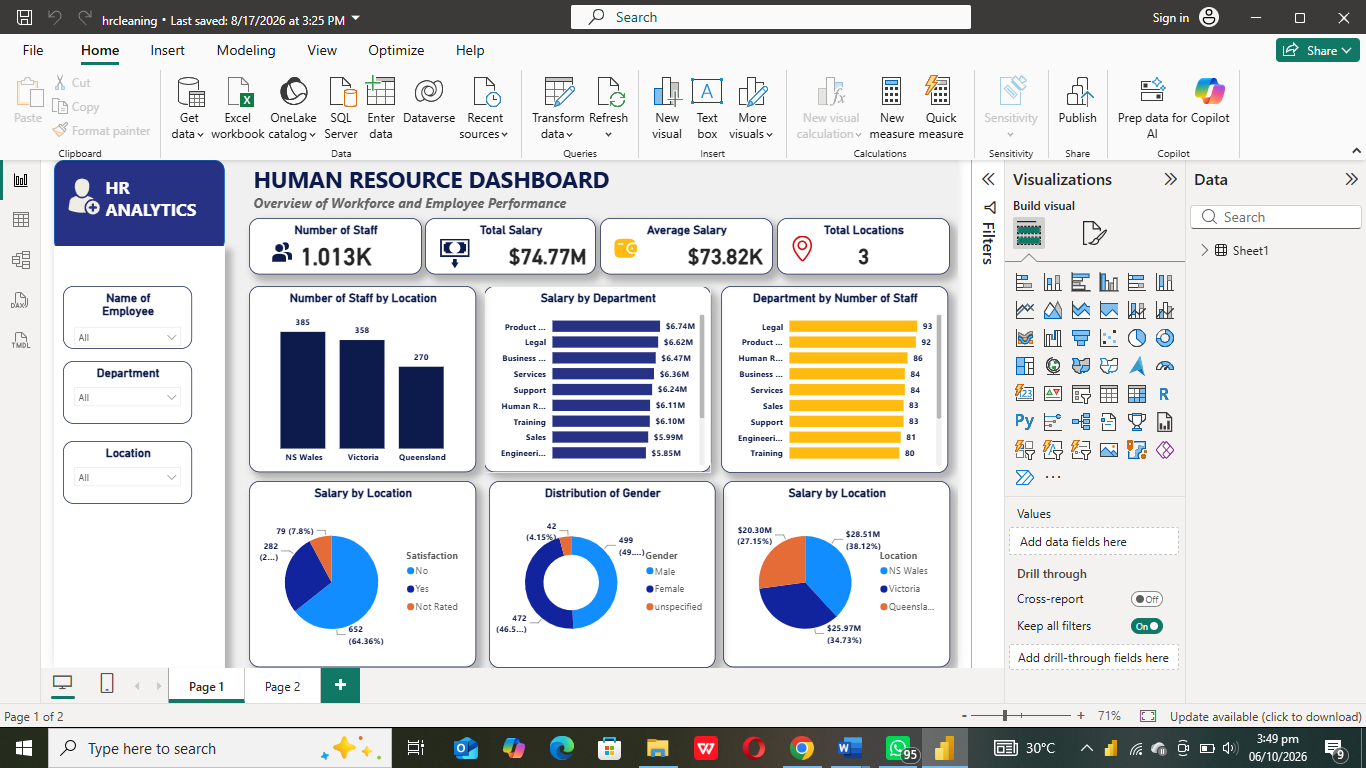

What the dashboard file says about the page in this screenshot:
{"tool":"powerbi","page":{"name":"Page 1","canvas":[1280,720],"ordinal":0},"visuals":[{"type":"cardVisual","title":"Number of Staff","fields":{"Data":["CountNonNull(Sheet1.Name)"]},"box":[276.5,82.3,244.7,80.4],"z":0,"group":"g1"},{"type":"clusteredBarChart","title":"Department by Number of Staff","fields":{"Category":["Sheet1.Department"],"Y":["CountNonNull(Sheet1.Name)"]},"box":[945.7,178.6,322,264.7],"z":0},{"type":"cardVisual","title":"Total Salary","fields":{"Data":["Sum(Sheet1.Salary)"]},"box":[526.3,82.3,242.5,80.4],"z":1000,"group":"g3"},{"type":"clusteredBarChart","title":"Salary by Department","fields":{"Category":["Sheet1.Department"],"Y":["Sum(Sheet1.Salary)"]},"box":[609.7,178.6,322,264.4],"z":1000},{"type":"shape","box":[0,0,241.9,129.6],"z":2000},{"type":"cardVisual","title":"Total Locations","fields":{"Data":["Count(Sheet1.Location)"]},"box":[1024.1,82.1,244.7,80.4],"z":2000,"group":"g7"},{"type":"cardVisual","title":"Average Salary","fields":{"Data":["Avg(Sheet1.Salary)"]},"box":[772.6,82.3,244.7,80.4],"z":2000,"group":"g5"},{"type":"slicer","title":"Name of Employee","fields":{"Values":["Sheet1.Name"]},"box":[12.8,178.6,183,89],"z":3000,"group":"g6"},{"type":"columnChart","title":"Number of Staff by Location","fields":{"Category":["Sheet1.Location"],"Y":["CountNonNull(Sheet1.Name)"]},"box":[277.1,178.6,322,264.4],"z":3000},{"type":"shape","box":[0,122.4,241.9,597.6],"z":4000},{"type":"slicer","title":"Department","fields":{"Values":["Sheet1.Department"]},"box":[12.8,284.3,183,89],"z":5000,"group":"g6"},{"type":"pieChart","title":"Salary by Location","fields":{"Category":["Sheet1.Location"],"Y":["Sum(Sheet1.Salary)"]},"box":[947.9,455.2,322,264.4],"z":5000},{"type":"pieChart","title":"Salary by Location","fields":{"Category":["Sheet1.Satisfaction"],"Y":["CountNonNull(Sheet1.Name)"]},"box":[276.4,454.8,322,264.4],"z":6000},{"type":"slicer","title":"Location","fields":{"Values":["Sheet1.Location"]},"box":[12.8,398.5,183,89],"z":7000,"group":"g6"},{"type":"donutChart","title":"Distribution of Gender","fields":{"Category":["Sheet1.Gender"],"Y":["CountNonNull(Sheet1.Name)"]},"box":[616.8,455.2,321,264.8],"z":7000},{"type":"textbox","box":[277.2,0,979.3,82.3],"z":8000},{"type":"textbox","box":[67.6,17.3,185.6,105],"z":9000},{"type":"group","id":"g1","title":"Group 2","box":[276.5,82.3,244.7,80.4],"z":9000,"group":"g4"},{"type":"group","id":"g2","title":"Group 8","box":[13,21.6,60.5,60.5],"z":10000},{"type":"group","id":"g3","title":"Group 4","box":[526.3,82.3,242.5,80.4],"z":10000,"group":"g4"},{"type":"group","id":"g4","title":"Group 3","box":[276.5,82.1,992.2,80.6],"z":11000},{"type":"group","id":"g5","title":"Group 5","box":[767.6,82.3,249.7,80.4],"z":11000,"group":"g4"},{"type":"group","id":"g6","title":"Group 1","box":[12.8,178.6,184.3,309],"z":12000},{"type":"group","id":"g7","title":"Group 5","box":[1019.1,82.1,249.6,80.4],"z":14000,"group":"g4"},{"type":"image","box":[1019.1,101.7,83.8,46.9],"z":14000,"group":"g7"},{"type":"image","box":[767.6,101.9,83.8,46.9],"z":14000,"group":"g5"},{"type":"image","box":[276.5,97.4,94.3,65.3],"z":15000,"group":"g1"},{"type":"image","box":[13,21.6,60.5,60.7],"z":17000,"group":"g2"},{"type":"image","box":[538.3,106.9,62.8,51.9],"z":19000,"group":"g3"}]}

Visuals, with their boxes on the page's 1280x720 design canvas (x1, y1, x2, y2). These are canvas units, not pixel positions in the 1366x768 screenshot, which may show the page scaled, cropped or inside an application window:
"Number of Staff" cardVisual: select_region(276, 82, 521, 163)
"Department by Number of Staff" clusteredBarChart: select_region(946, 179, 1268, 443)
"Total Salary" cardVisual: select_region(526, 82, 769, 163)
"Salary by Department" clusteredBarChart: select_region(610, 179, 932, 443)
shape: select_region(0, 0, 242, 130)
"Total Locations" cardVisual: select_region(1024, 82, 1269, 162)
"Average Salary" cardVisual: select_region(773, 82, 1017, 163)
"Name of Employee" slicer: select_region(13, 179, 196, 268)
"Number of Staff by Location" columnChart: select_region(277, 179, 599, 443)
shape: select_region(0, 122, 242, 720)
"Department" slicer: select_region(13, 284, 196, 373)
"Salary by Location" pieChart: select_region(948, 455, 1270, 720)
"Salary by Location" pieChart: select_region(276, 455, 598, 719)
"Location" slicer: select_region(13, 398, 196, 488)
"Distribution of Gender" donutChart: select_region(617, 455, 938, 720)
textbox: select_region(277, 0, 1256, 82)
textbox: select_region(68, 17, 253, 122)
"Group 2" group: select_region(276, 82, 521, 163)
"Group 8" group: select_region(13, 22, 74, 82)
"Group 4" group: select_region(526, 82, 769, 163)
"Group 3" group: select_region(276, 82, 1269, 163)
"Group 5" group: select_region(768, 82, 1017, 163)
"Group 1" group: select_region(13, 179, 197, 488)
"Group 5" group: select_region(1019, 82, 1269, 162)
image: select_region(1019, 102, 1103, 149)
image: select_region(768, 102, 851, 149)
image: select_region(276, 97, 371, 163)
image: select_region(13, 22, 74, 82)
image: select_region(538, 107, 601, 159)
